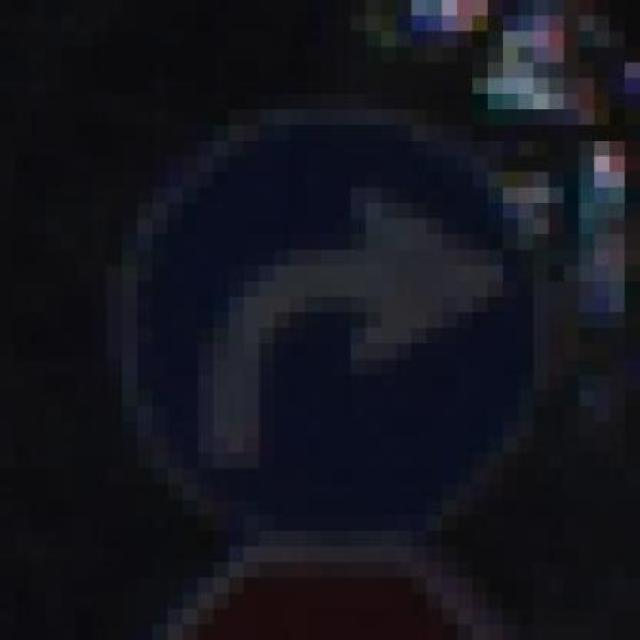Turn right ahead: (76, 78, 564, 578)
